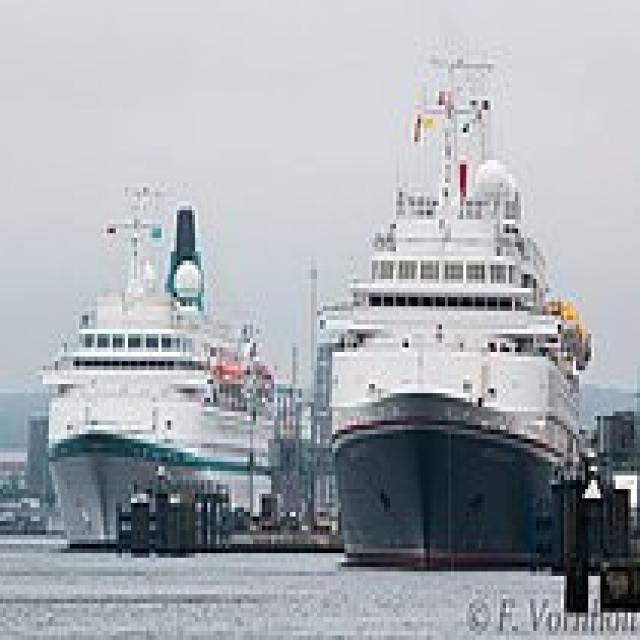Ship: (321, 33, 605, 591), (29, 161, 282, 559)
